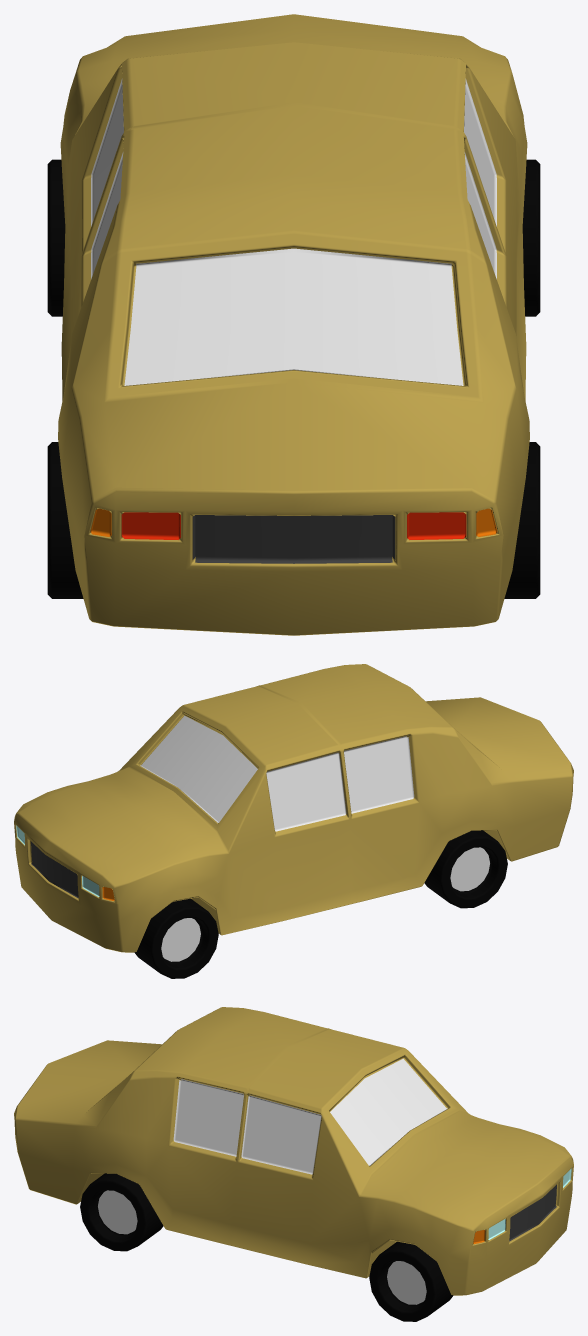
File: Yellow-Car.fbx
3 views of the same model, one above another, from view 1: azimuth 30°, elevation 25°; view 2: azimuth 150°, elevation 25°; view 3: azimuth 270°, elevation 25° (orthographic). The views are drawn at different scales.
Parts seen in each view (by area): view 1: Cylinder.077; view 2: Cylinder.077; view 3: Cylinder.077.
Part boxes in pixels (x1,y1,x2,y2): Cylinder.077: [47, 14, 540, 635]; Cylinder.077: [14, 664, 573, 978]; Cylinder.077: [14, 1007, 573, 1321].
Bounding box in the file's own units: 283 × 132 × 356.
